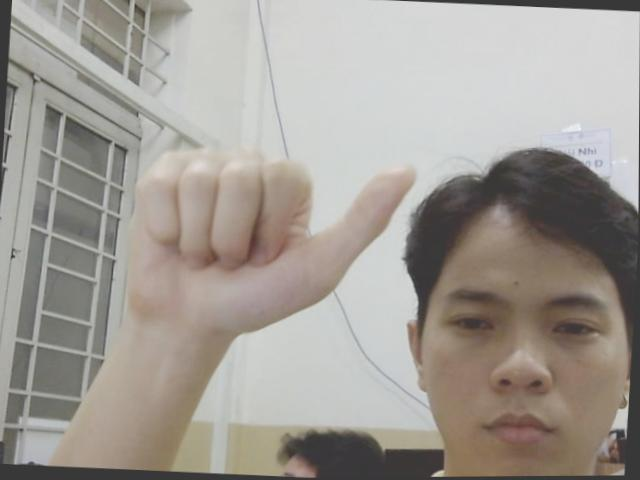A: (117, 128, 421, 347)
